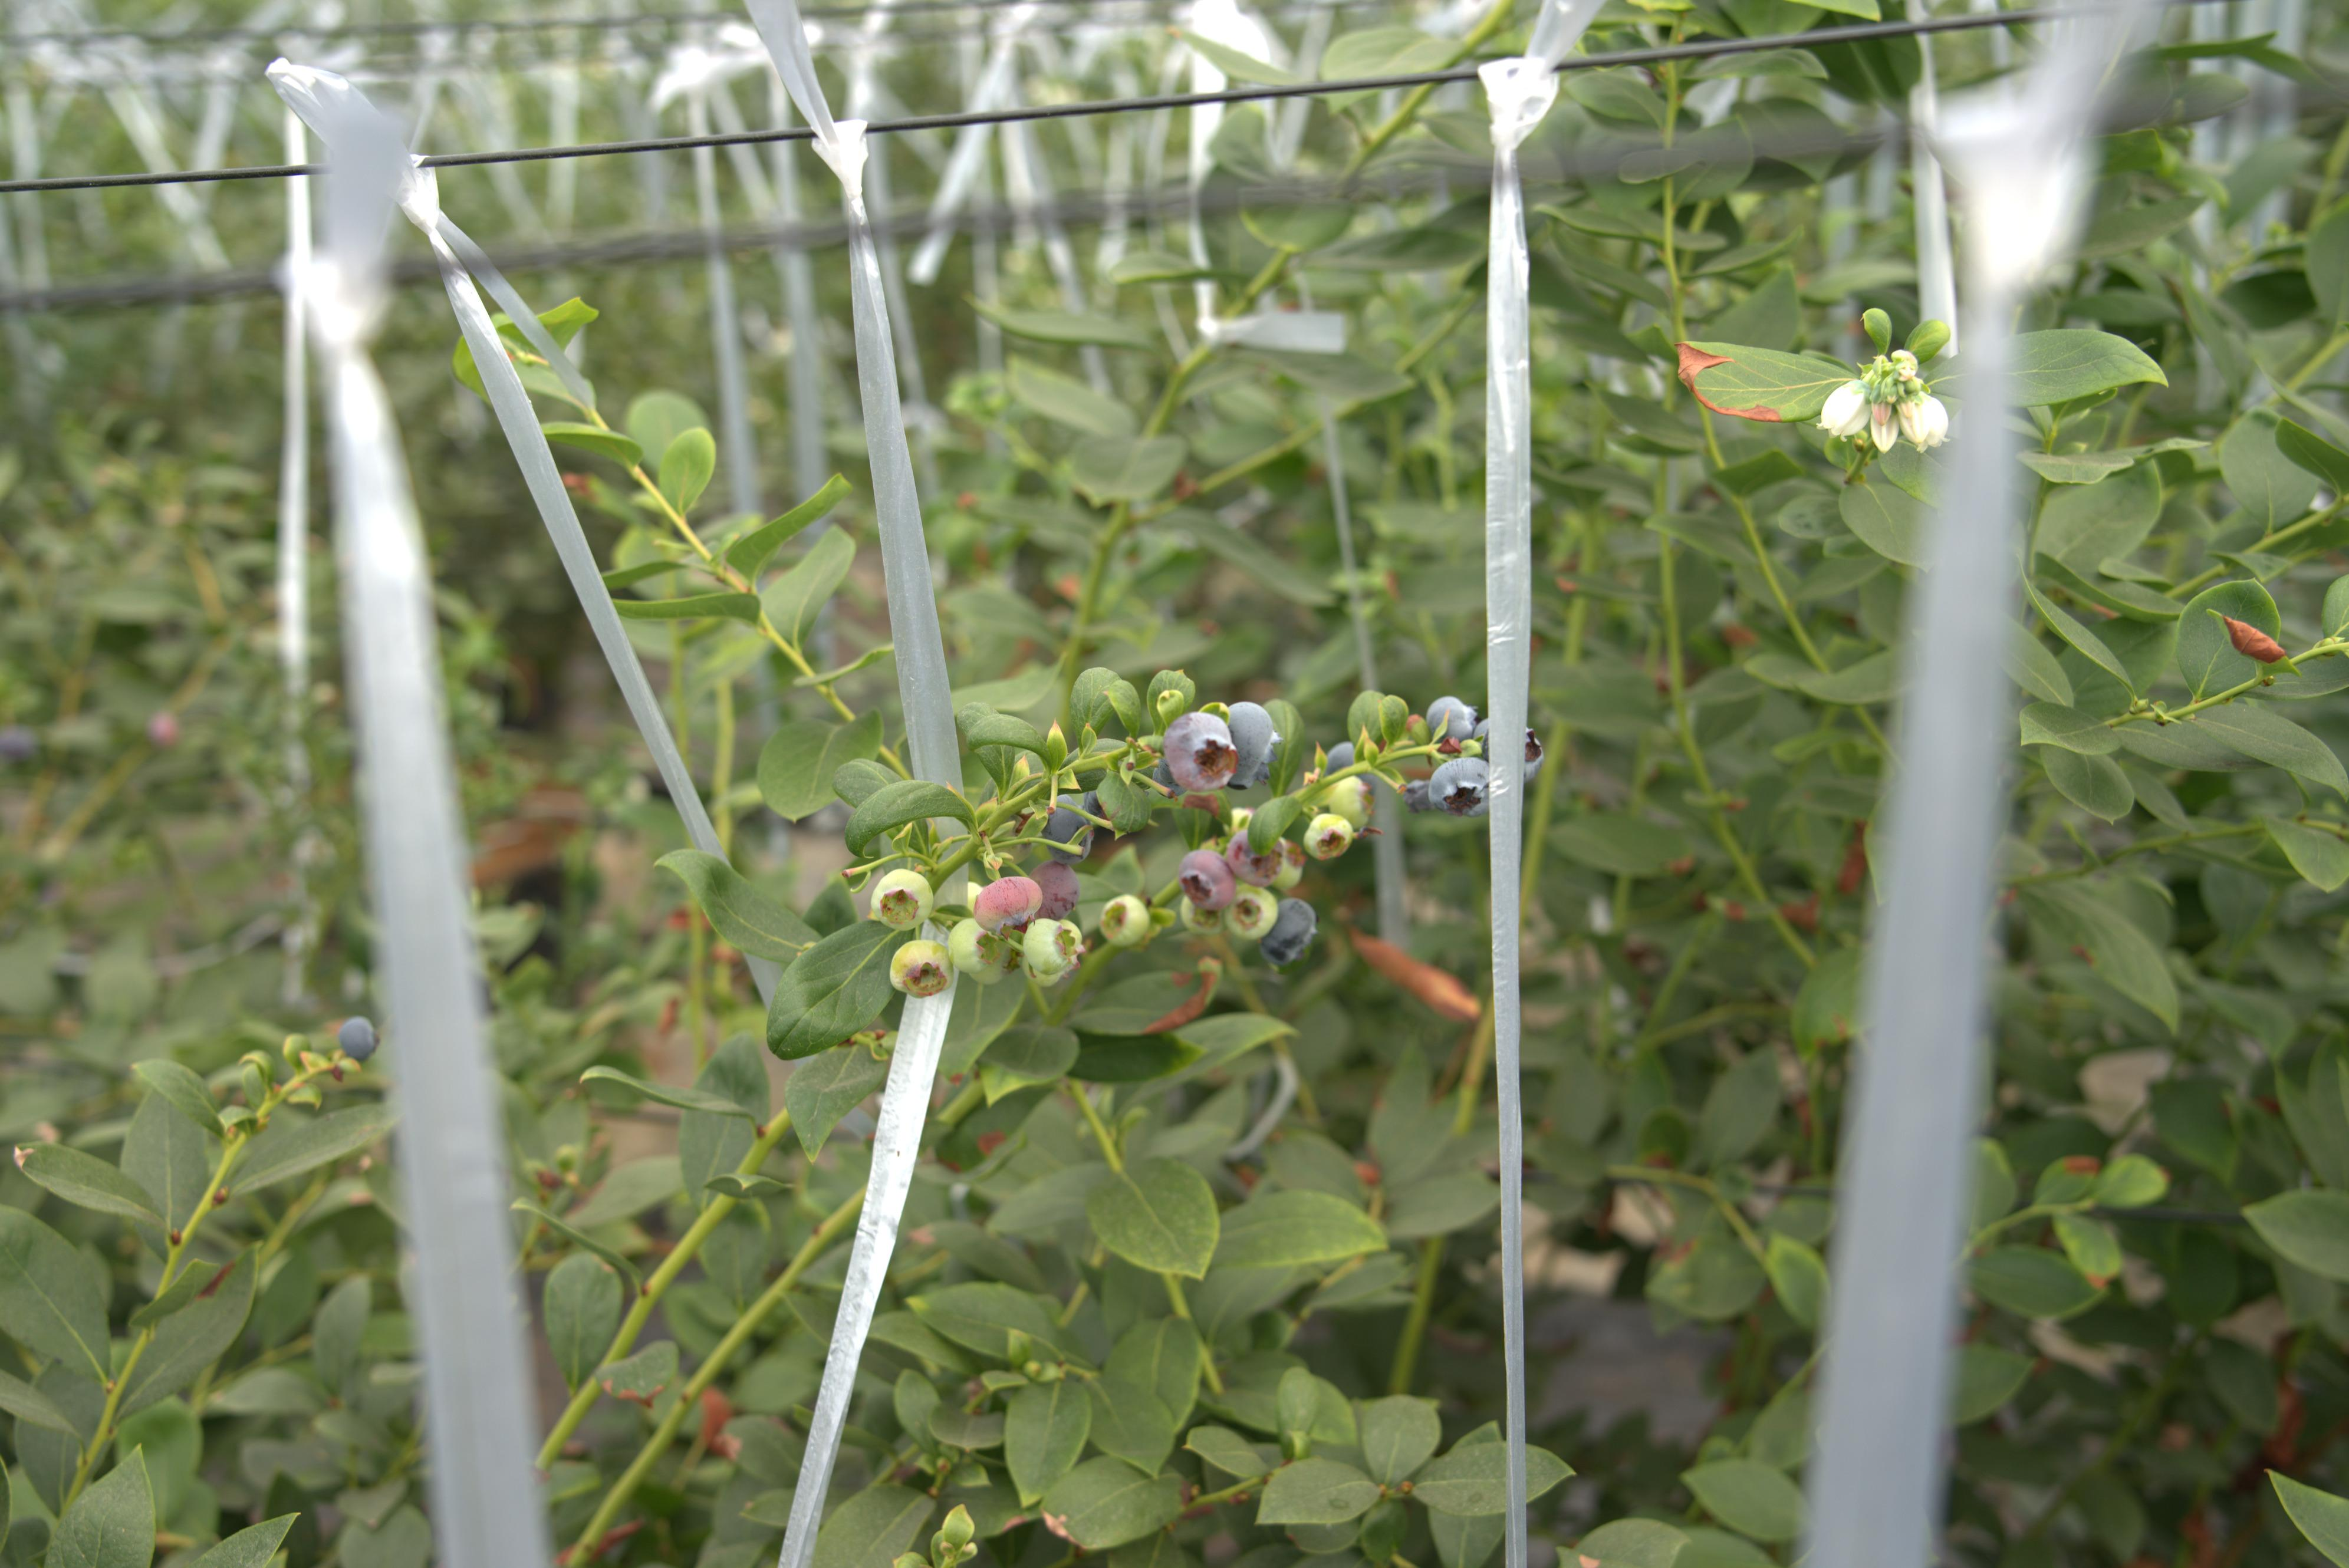ripe-blueberries: (1166, 714, 1236, 789), (1229, 702, 1280, 789), (1040, 798, 1094, 859), (1271, 896, 1315, 966), (1434, 759, 1486, 815), (1425, 693, 1472, 742), (1330, 740, 1357, 773)
semi-ripe-blueberries: (870, 873, 935, 927), (1020, 920, 1075, 971), (1225, 887, 1281, 936), (891, 943, 950, 989), (1099, 894, 1150, 947), (1334, 779, 1379, 828), (949, 924, 996, 968), (1306, 817, 1358, 856), (1180, 898, 1224, 936), (1280, 843, 1304, 885)
